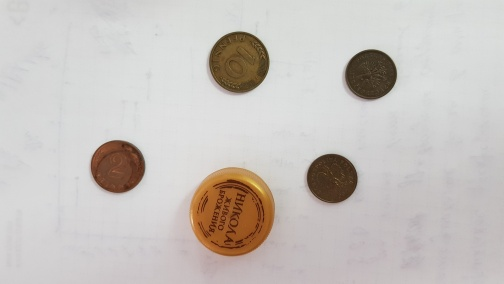coin: (208, 31, 270, 94), (90, 140, 146, 194), (345, 49, 397, 100), (306, 153, 358, 204)
